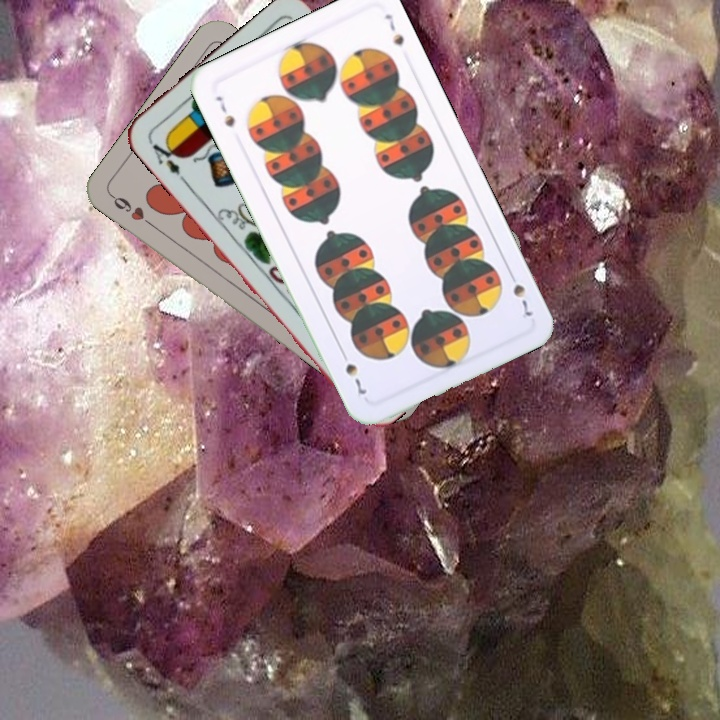EA: (145, 135, 188, 185)
H9: (107, 190, 158, 231)
S7: (504, 266, 537, 322), (211, 91, 238, 130)
